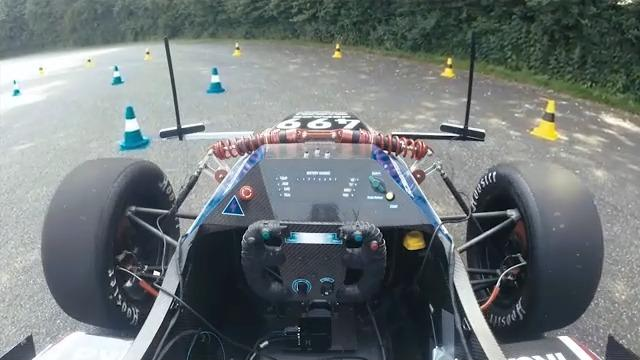blue_cone: (118, 106, 153, 152), (206, 67, 225, 94), (111, 65, 125, 86)
yellow_cone: (531, 99, 561, 141), (441, 58, 455, 77), (332, 44, 342, 58), (232, 43, 242, 56)
